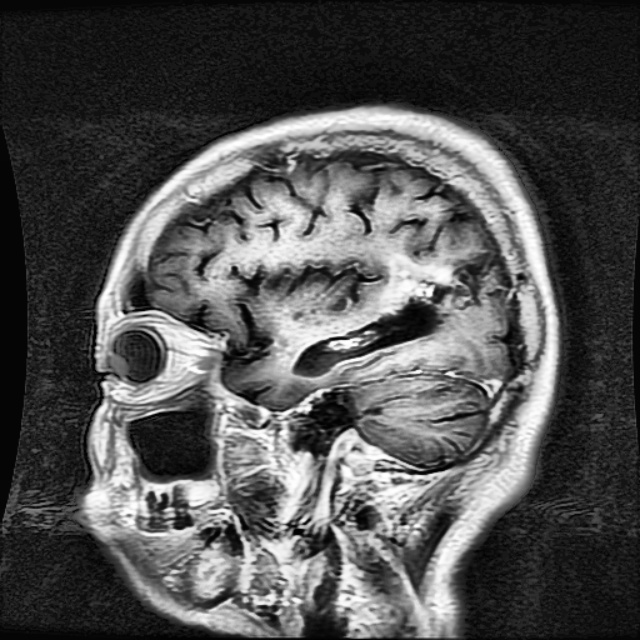Meningioma: (293, 254, 457, 374)
